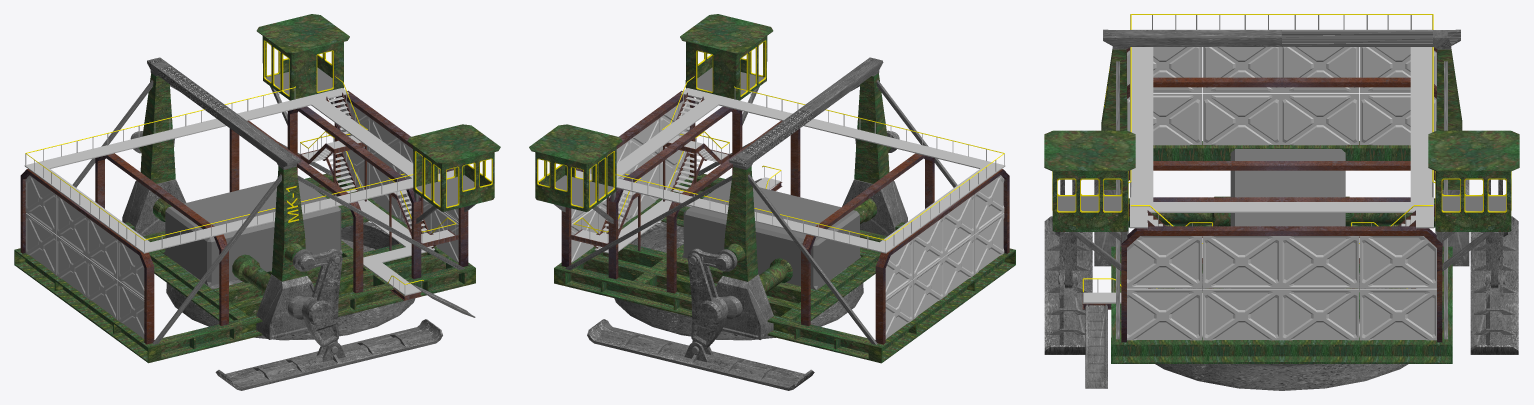
The model's file is walker.gltf.
3 views of the same model, side by side, from view 1: azimuth 30°, elevation 25°; view 2: azimuth 150°, elevation 25°; view 3: azimuth 270°, elevation 25° (orthographic). The views are drawn at different scales.
Visible parts, largest first — view 1: Box021, Object003, Box184, Box051, Plane010, Box205, Box017, Box010, Box002.001, Box207, Cylinder024, Cylinder009.001 (+7 smaller); view 2: Box021, Object003, Box184, Box051, Plane010, Box205, Box017, Box010, Box208, Box207, Cylinder024, Cylinder034 (+7 smaller); view 3: Object003, Plane010, Box021, Box184, Box051, Box017, Box205, Box208, Cylinder024, Box002.001, Box010, Plane028 (+9 smaller).
Boxes of the visible parts, <box> form: Box021: <box>14,173,475,363</box>; Object003: <box>25,100,458,338</box>; Box184: <box>24,88,454,295</box>; Box051: <box>20,90,468,344</box>; Plane010: <box>256,14,500,211</box>; Box205: <box>163,180,342,286</box>; Box017: <box>72,57,464,344</box>; Box010: <box>138,73,307,281</box>; Box002.001: <box>215,319,442,390</box>; Box207: <box>122,179,314,339</box>; Cylinder024: <box>166,221,415,340</box>; Cylinder009.001: <box>302,250,342,352</box>; Box021: <box>554,173,1015,363</box>; Object003: <box>571,100,1004,339</box>; Box184: <box>575,88,1005,253</box>; Box051: <box>561,90,1009,344</box>; Plane010: <box>529,14,773,211</box>; Box205: <box>682,180,860,289</box>; Box017: <box>565,57,957,344</box>; Box010: <box>722,73,891,281</box>; Box208: <box>587,319,814,390</box>; Box207: <box>715,179,907,339</box>; Cylinder024: <box>614,222,863,340</box>; Cylinder034: <box>687,250,728,352</box>; Object003: <box>1127,47,1436,340</box>; Plane010: <box>1044,130,1519,231</box>; Box021: <box>1111,141,1452,363</box>; Box184: <box>1083,29,1436,336</box>; Box051: <box>1121,47,1442,342</box>; Box017: <box>1103,29,1460,339</box>; Box205: <box>1230,149,1345,288</box>; Box208: <box>1470,216,1518,354</box>; Cylinder024: <box>1151,236,1411,390</box>; Box002.001: <box>1044,216,1092,354</box>; Box010: <box>1101,49,1462,189</box>; Plane028: <box>1085,304,1107,388</box>.
Size of the model in its own units: 20.29 by 11.42 by 19.91.
